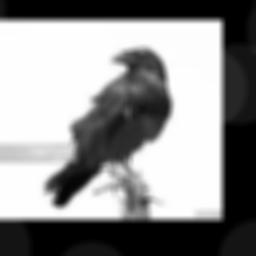Crow: (44, 45, 173, 208)
